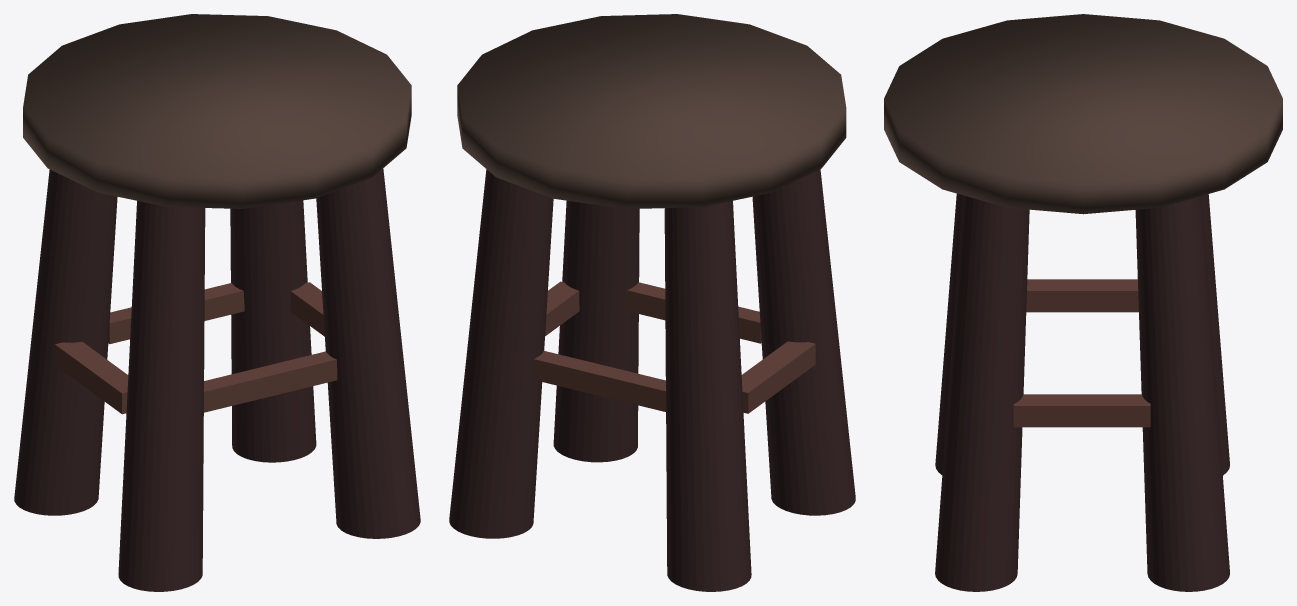
The model's file is bar_Stoll_e_banco_Cicero_56670.fbx.
3 views of the same model, side by side, from view 1: azimuth 30°, elevation 25°; view 2: azimuth 150°, elevation 25°; view 3: azimuth 270°, elevation 25° (orthographic).
Visible parts, largest first — view 1: Circle, Cylinder.002, Cylinder.003, Cylinder.001, Cylinder, Cube.002, Cube.001, Cube.003, Cube; view 2: Circle, Cylinder.001, Cylinder, Cylinder.002, Cylinder.003, Cube.003, Cube.001, Cube.002, Cube; view 3: Circle, Cylinder.003, Cylinder, Cube, Cube.001, Cylinder.001, Cylinder.002.
Part boxes in pixels (<box>): Circle: <box>23,14,411,208</box>; Cylinder.002: <box>118,201,205,591</box>; Cylinder.003: <box>316,168,420,538</box>; Cylinder.001: <box>14,169,117,515</box>; Cylinder: <box>230,200,316,462</box>; Cube.002: <box>204,351,337,412</box>; Cube.001: <box>55,341,128,414</box>; Cube.003: <box>108,283,244,343</box>; Cube: <box>290,282,324,336</box>; Circle: <box>457,14,846,209</box>; Cylinder.001: <box>664,201,751,591</box>; Cylinder: <box>449,169,553,538</box>; Cylinder.002: <box>752,169,855,515</box>; Cylinder.003: <box>553,200,639,462</box>; Cube.003: <box>533,351,665,411</box>; Cube.001: <box>741,341,815,413</box>; Cube.002: <box>625,282,761,343</box>; Cube: <box>545,281,579,336</box>; Circle: <box>884,14,1282,214</box>; Cylinder.003: <box>935,195,1029,591</box>; Cylinder: <box>1135,196,1229,591</box>; Cube: <box>1013,394,1150,427</box>; Cube.001: <box>1026,279,1138,312</box>; Cylinder.001: <box>1202,194,1229,475</box>; Cylinder.002: <box>935,193,963,474</box>.
Size of the model in its own units: 47.02 by 54.75 by 46.97.
